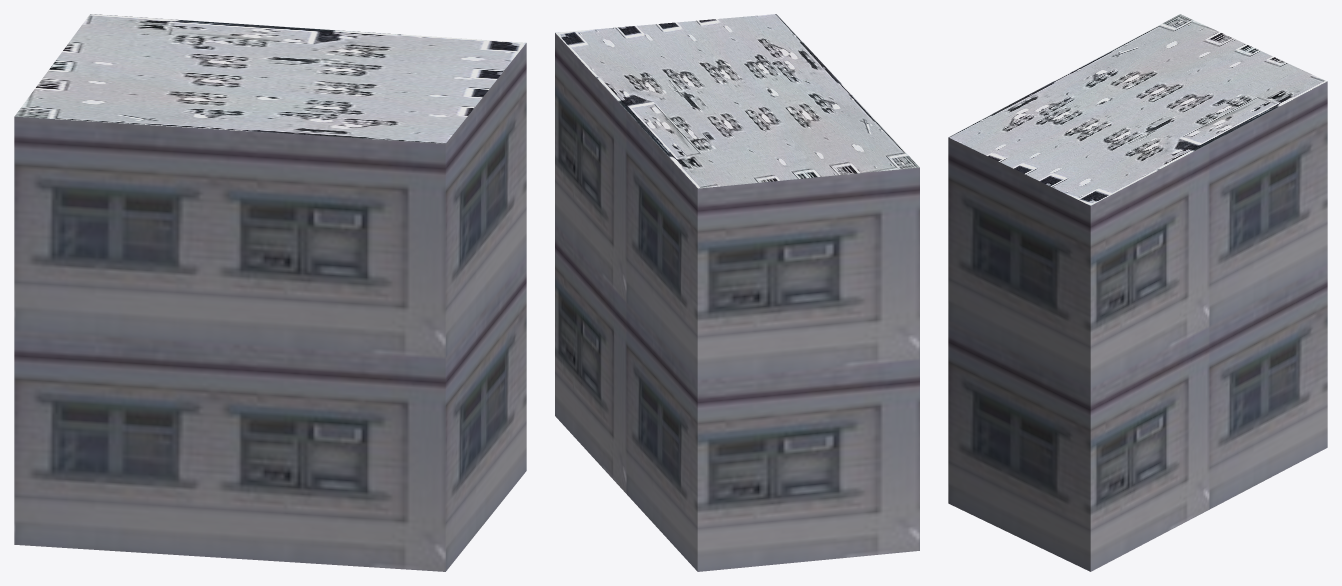
The model's file is ResTex__5073.fbx.
3 views of the same model, side by side, from view 1: azimuth 30°, elevation 25°; view 2: azimuth 150°, elevation 25°; view 3: azimuth 270°, elevation 25° (orthographic). The views are drawn at different scales.
Parts seen in each view (by area): view 1: CityEngineMaterial_1_m, CityEngineMaterial_4_m; view 2: CityEngineMaterial_1_m, CityEngineMaterial_4_m; view 3: CityEngineMaterial_1_m, CityEngineMaterial_4_m.
Part boxes in pixels (bbox=[...]): CityEngineMaterial_1_m: bbox=[14, 43, 526, 571]; CityEngineMaterial_4_m: bbox=[14, 14, 526, 143]; CityEngineMaterial_1_m: bbox=[555, 33, 919, 571]; CityEngineMaterial_4_m: bbox=[555, 14, 919, 188]; CityEngineMaterial_1_m: bbox=[948, 82, 1327, 571]; CityEngineMaterial_4_m: bbox=[948, 14, 1327, 205].
Size of the model in its own units: 6.74 by 6 by 5.64.
Materials: 2 (2 with a texture image).
